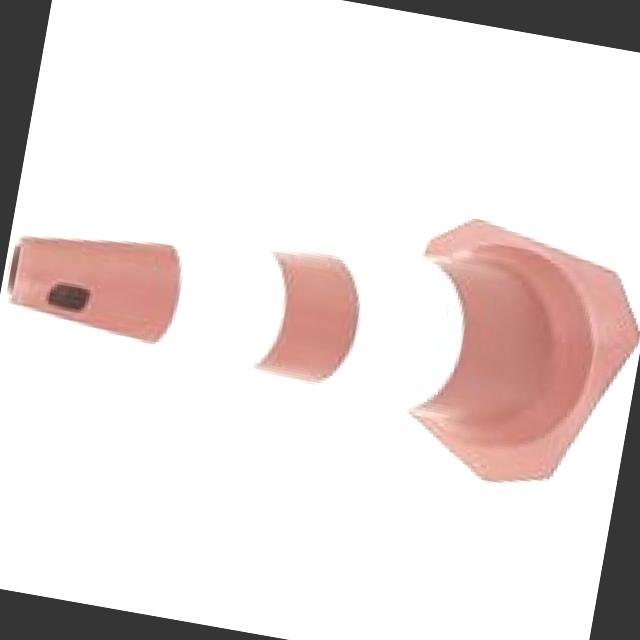cone: (0, 119, 640, 526)
